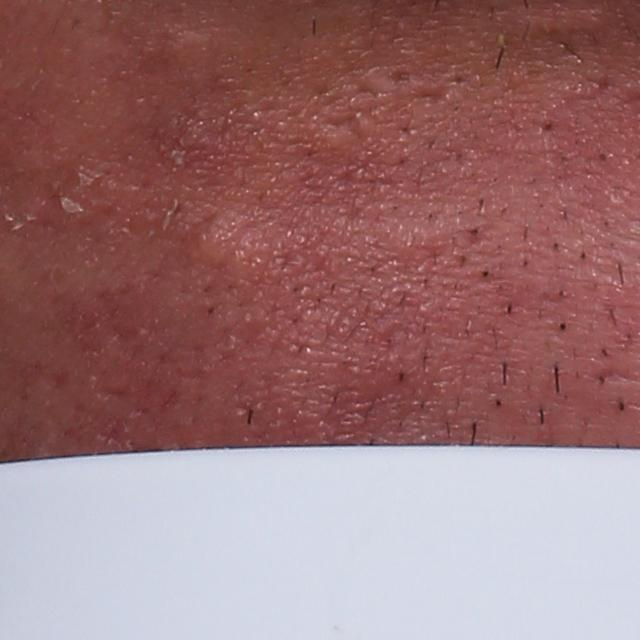comedo: (588, 145, 612, 166)
hypertrophic_scar: (315, 53, 455, 153), (190, 218, 243, 276)
